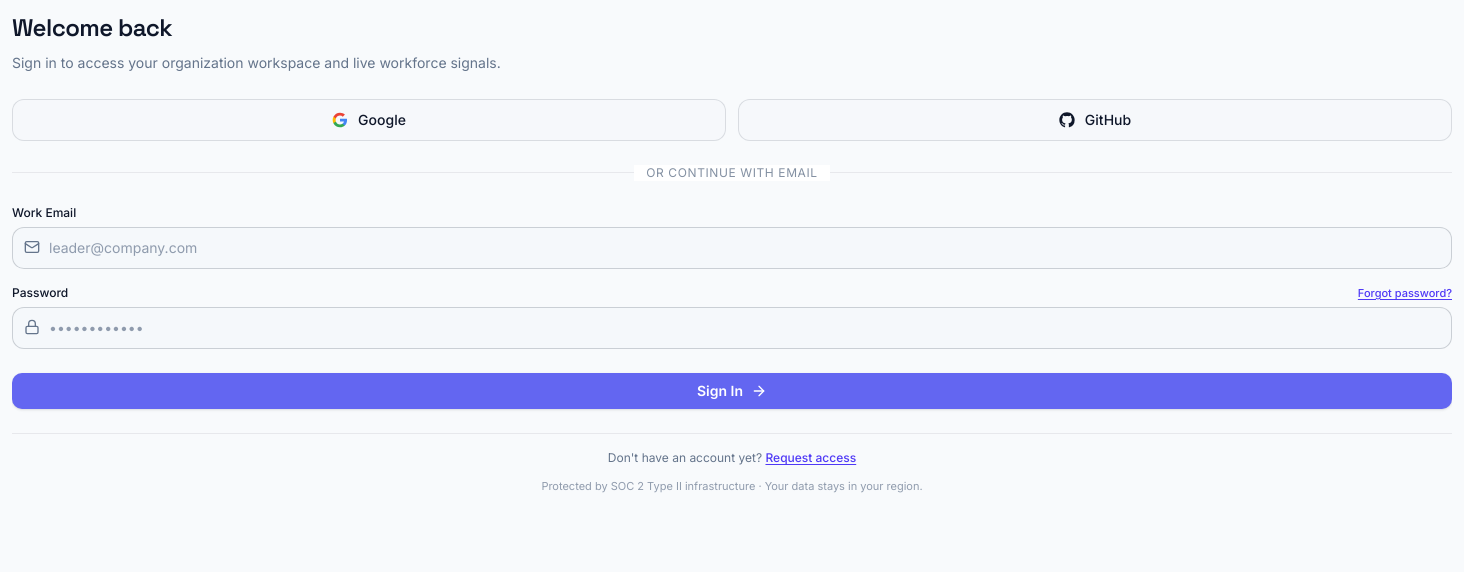
Test: AuthForm › shows the server error message and does not navigate on failure
The image size is (1464, 572).
Type "a@b.co" into the field labelled "Work Email" at (732, 248), box [12,227,1452,269]
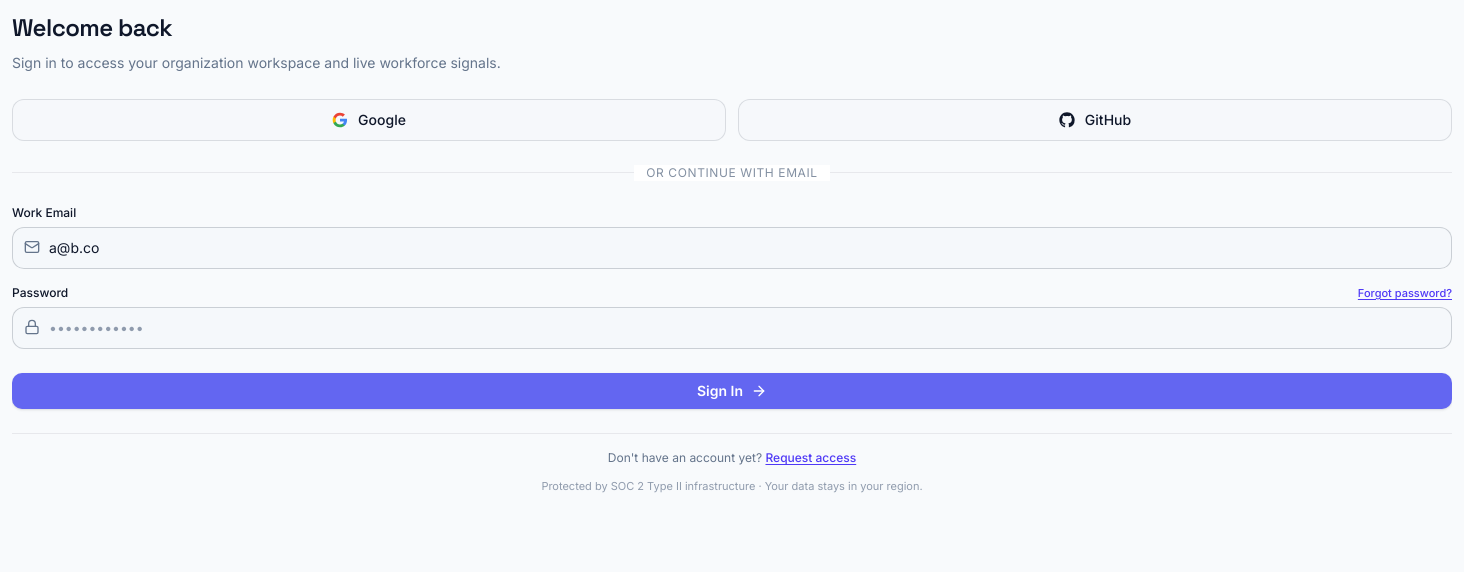
Type "longenough" into the password field labelled "Password" at (732, 328), box [12,307,1452,349]
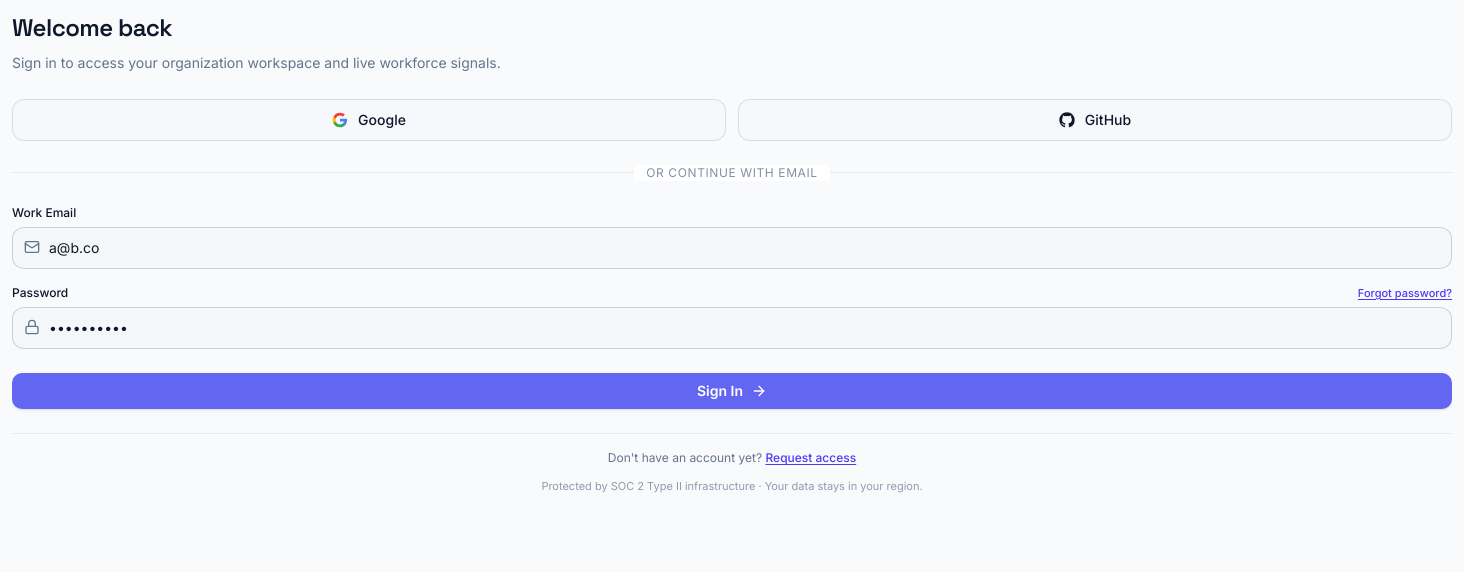
Submit the form from the button "Sign In", box [12,373,1452,409]
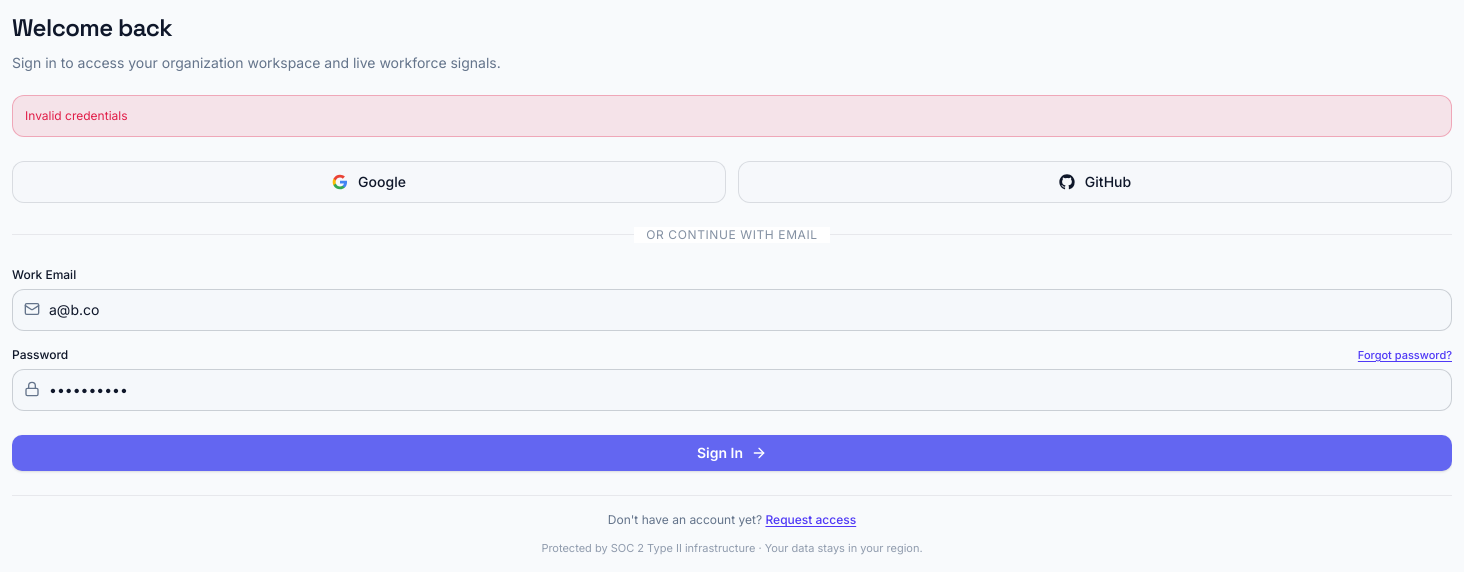
Check: the message reads "Invalid credentials", box [25,108,128,123]
